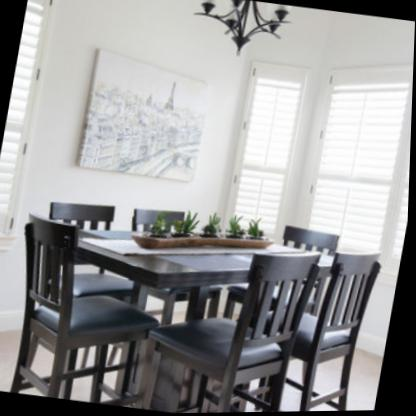Dining Table: (12, 193, 382, 416)
